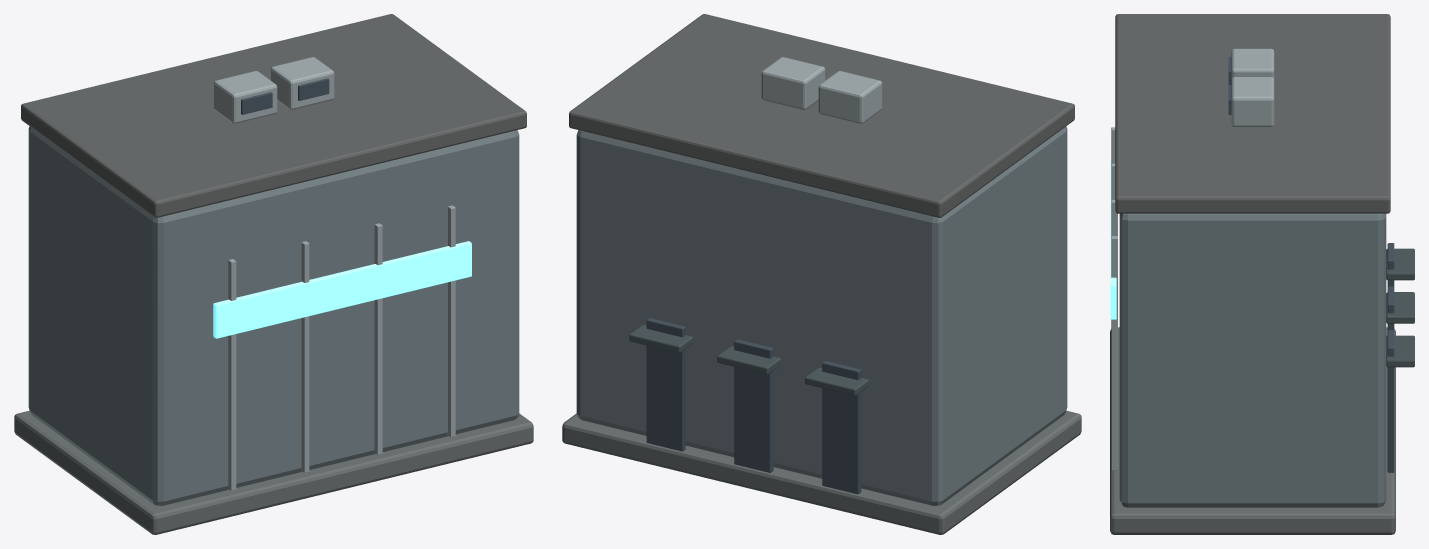
Rendered from industrial_long_warehouse.glb.
The picture shows the model from 3 angles, left to right: view 1: azimuth 30°, elevation 25°; view 2: azimuth 150°, elevation 25°; view 3: azimuth 270°, elevation 25°; orthographic projection.
Parts seen in each view (by area): view 1: main_massing, roof_slab, foundation, industrial_window_strip, hvac_unit, hvac_unit.001, cladding_rib.002, cladding_rib, cladding_rib.003, cladding_rib.001; view 2: main_massing, roof_slab, foundation, loading_door.001, loading_door.002, loading_door, hvac_unit, hvac_unit.001, loading_canopy.001, loading_canopy.002, loading_canopy; view 3: main_massing, roof_slab, foundation, hvac_unit.001, cladding_rib.003, hvac_unit, loading_door.002, loading_canopy, loading_canopy.002, loading_canopy.001, industrial_window_strip.
Part boxes in pixels (left/top/right/bottom): main_massing: left=28, top=126, right=519, bottom=505; roof_slab: left=21, top=14, right=526, bottom=217; foundation: left=14, top=410, right=533, bottom=534; industrial_window_strip: left=213, top=241, right=471, bottom=338; hvac_unit: left=213, top=71, right=277, bottom=123; hvac_unit.001: left=270, top=57, right=334, bottom=109; cladding_rib.002: left=374, top=223, right=382, bottom=455; cladding_rib: left=228, top=259, right=236, bottom=490; cladding_rib.003: left=447, top=205, right=455, bottom=437; cladding_rib.001: left=301, top=241, right=309, bottom=472; main_massing: left=576, top=126, right=1067, bottom=505; roof_slab: left=569, top=14, right=1074, bottom=217; foundation: left=562, top=410, right=1081, bottom=534; loading_door.001: left=734, top=339, right=773, bottom=472; loading_door.002: left=646, top=318, right=685, bottom=451; loading_door: left=822, top=361, right=861, bottom=494; hvac_unit: left=818, top=71, right=882, bottom=123; hvac_unit.001: left=761, top=57, right=825, bottom=109; loading_canopy.001: left=717, top=346, right=780, bottom=374; loading_canopy.002: left=629, top=324, right=693, bottom=353; loading_canopy: left=805, top=367, right=868, bottom=395; main_massing: left=1119, top=213, right=1386, bottom=507; roof_slab: left=1115, top=14, right=1390, bottom=213; foundation: left=1110, top=327, right=1395, bottom=534; hvac_unit.001: left=1231, top=77, right=1274, bottom=126; cladding_rib.003: left=1111, top=236, right=1117, bottom=470; hvac_unit: left=1231, top=48, right=1274, bottom=78; loading_door.002: left=1387, top=330, right=1394, bottom=472; loading_canopy: left=1386, top=248, right=1414, bottom=280; loading_canopy.002: left=1386, top=335, right=1414, bottom=367; loading_canopy.001: left=1386, top=292, right=1414, bottom=323; industrial_window_strip: left=1110, top=159, right=1116, bottom=319.
Size of the model in its own units: 1.88 by 1.71 by 1.28.
